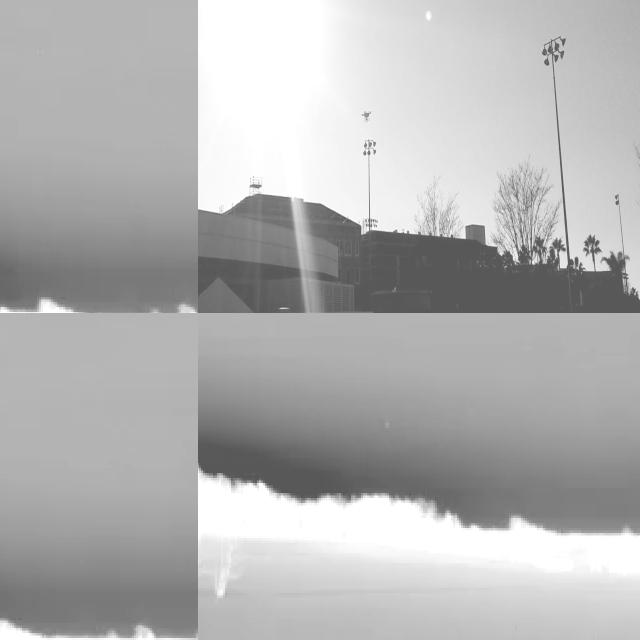0: (374, 411, 404, 443)
drone: (360, 106, 376, 130)
